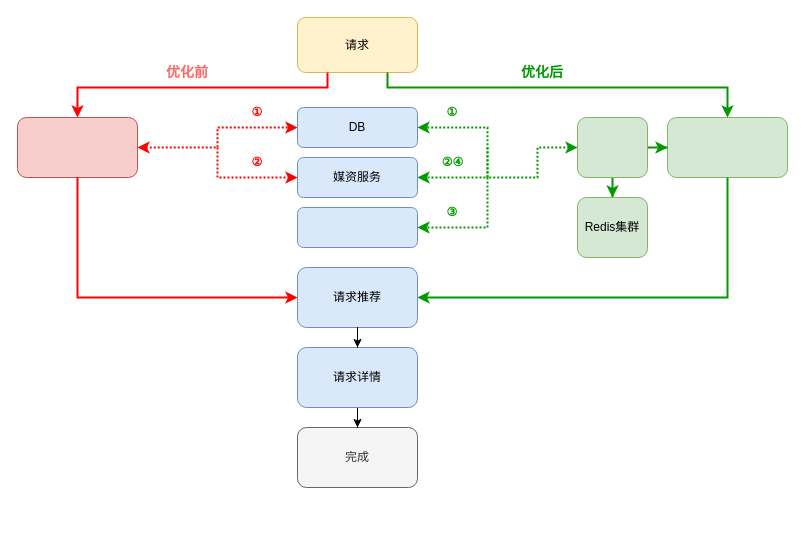
This 805x545 diagram has some shape labels left out. Here are the shapes that lost their labels. From the top down, the centre of each, then its label:
At (x=77, y=147): "共享缓存".
At (x=612, y=147): "定时器".
At (x=727, y=147): "本地缓存".
At (x=357, y=227): "推荐服务".
